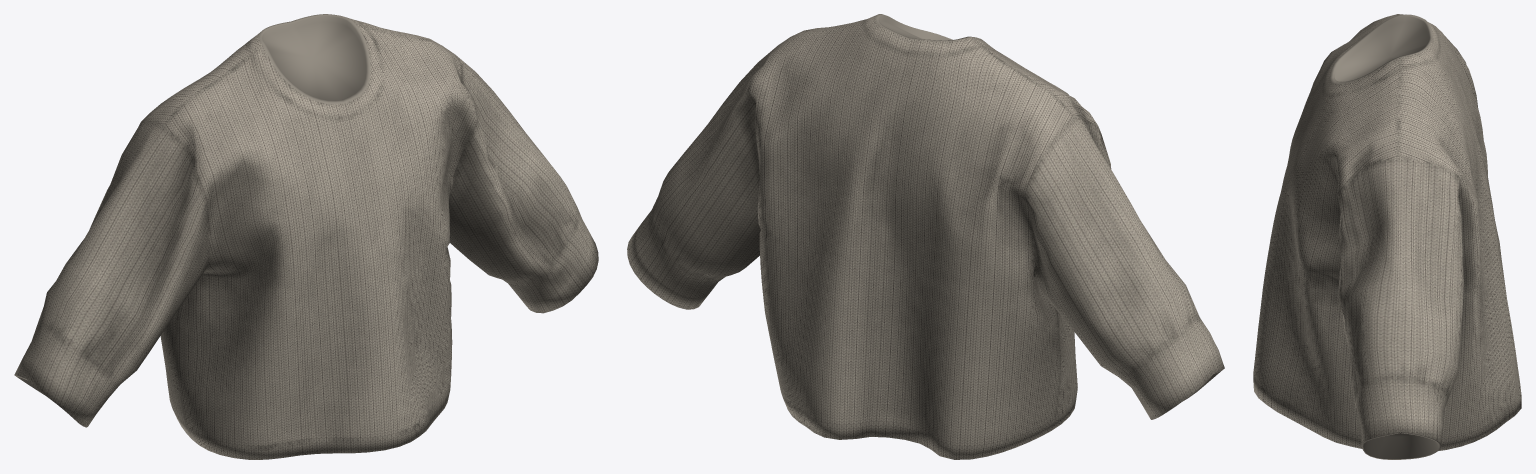
The picture shows the model from 3 angles, left to right: view 1: azimuth 30°, elevation 25°; view 2: azimuth 150°, elevation 25°; view 3: azimuth 270°, elevation 25°; orthographic projection. The views are drawn at different scales.
Parts seen in each view (by area): view 1: hash_D067EE79.model; view 2: hash_D067EE79.model; view 3: hash_D067EE79.model.
Part boxes in pixels (bbox=[...]): hash_D067EE79.model: bbox=[14, 14, 598, 459]; hash_D067EE79.model: bbox=[627, 14, 1224, 459]; hash_D067EE79.model: bbox=[1253, 14, 1521, 459].
Size of the model in its own units: 0.9268 by 0.5878 by 0.3939.
